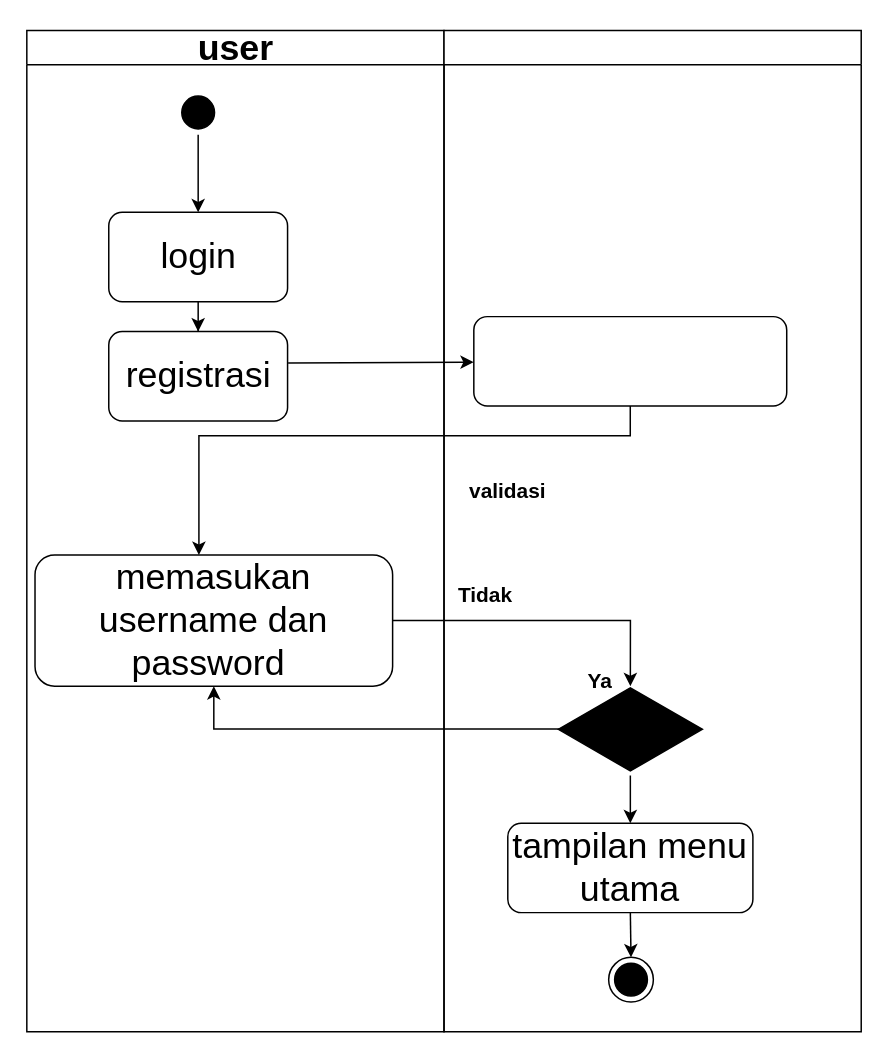
Some shapes in this 887 by 1058 pixel diagram are drawn without their labels. Each missing label, with the box of its shape:
System: (443, 29, 861, 1032)
tampilan ui daftar aplikasi: (472, 315, 787, 406)
